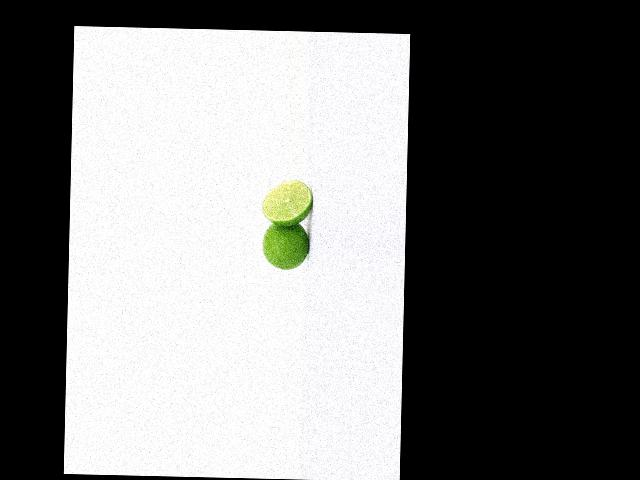lemon: (260, 221, 313, 272)
